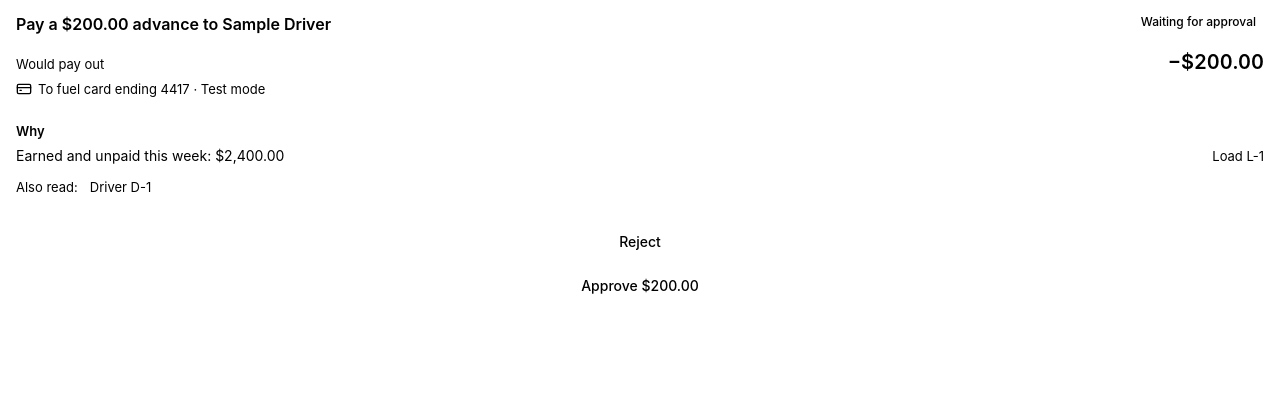
Scenario: ProposalCard › shows where the money lands under the amount, with Test mode, and asks the card question
Click the button "Approve $200.00": [640, 286] box [16, 268, 1264, 304]
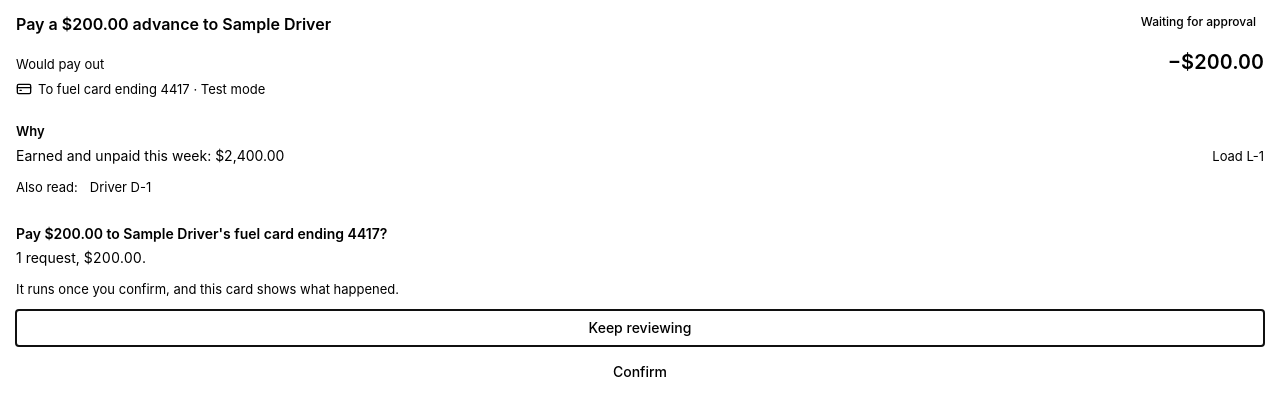
Check: the text "Pay $200.00 to Sample Driver's fuel card ending 4417?" is shown, box [16, 225, 387, 242]
